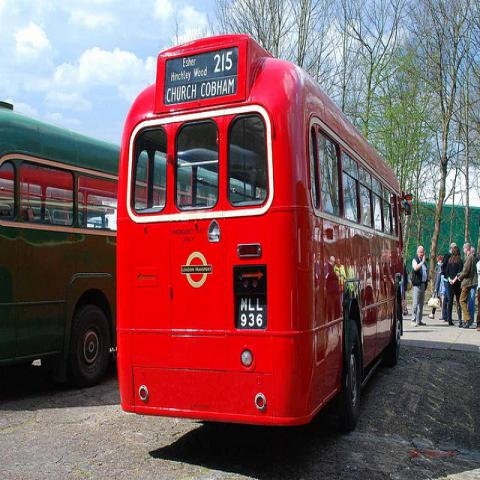bus: (114, 36, 415, 432), (0, 100, 120, 388)
